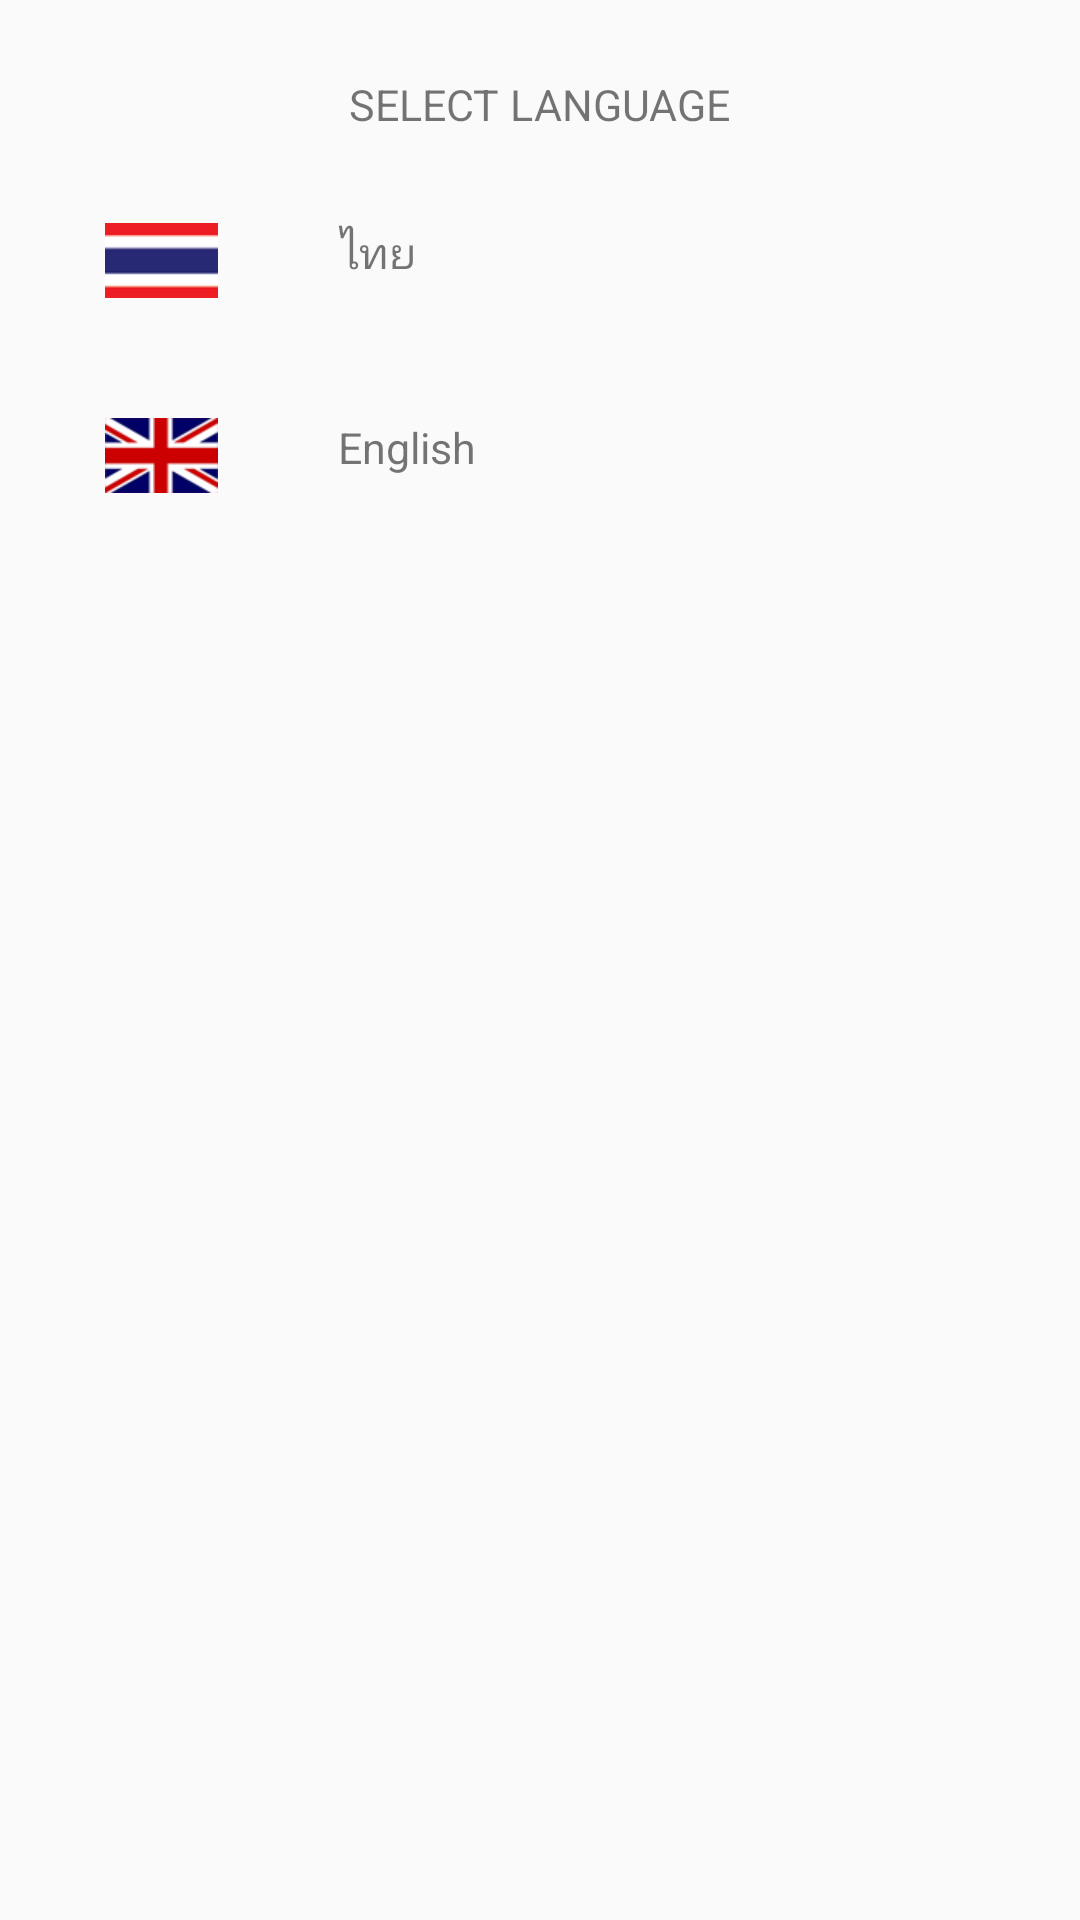

Point at icon controls on the screen. Image size 1080px x 1920px, points as (x,y).
setting flag thai: (161,260)
